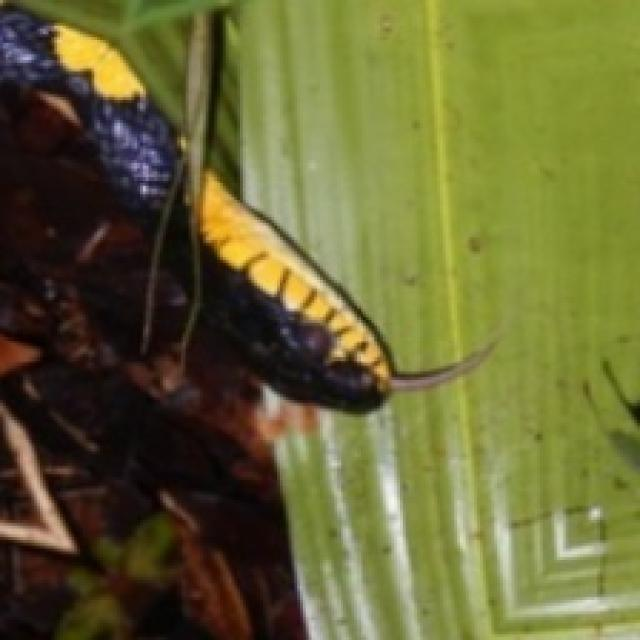mangrove cat snake: (205, 171, 391, 411), (0, 9, 178, 229)
